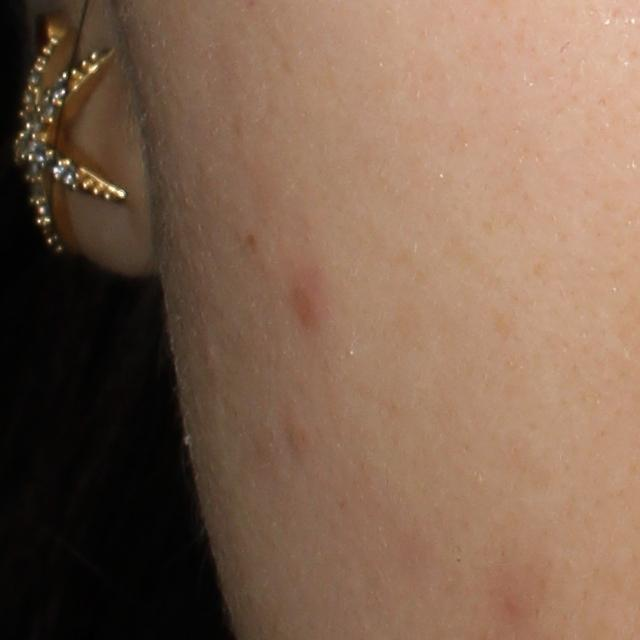papule: (289, 279, 328, 327)
